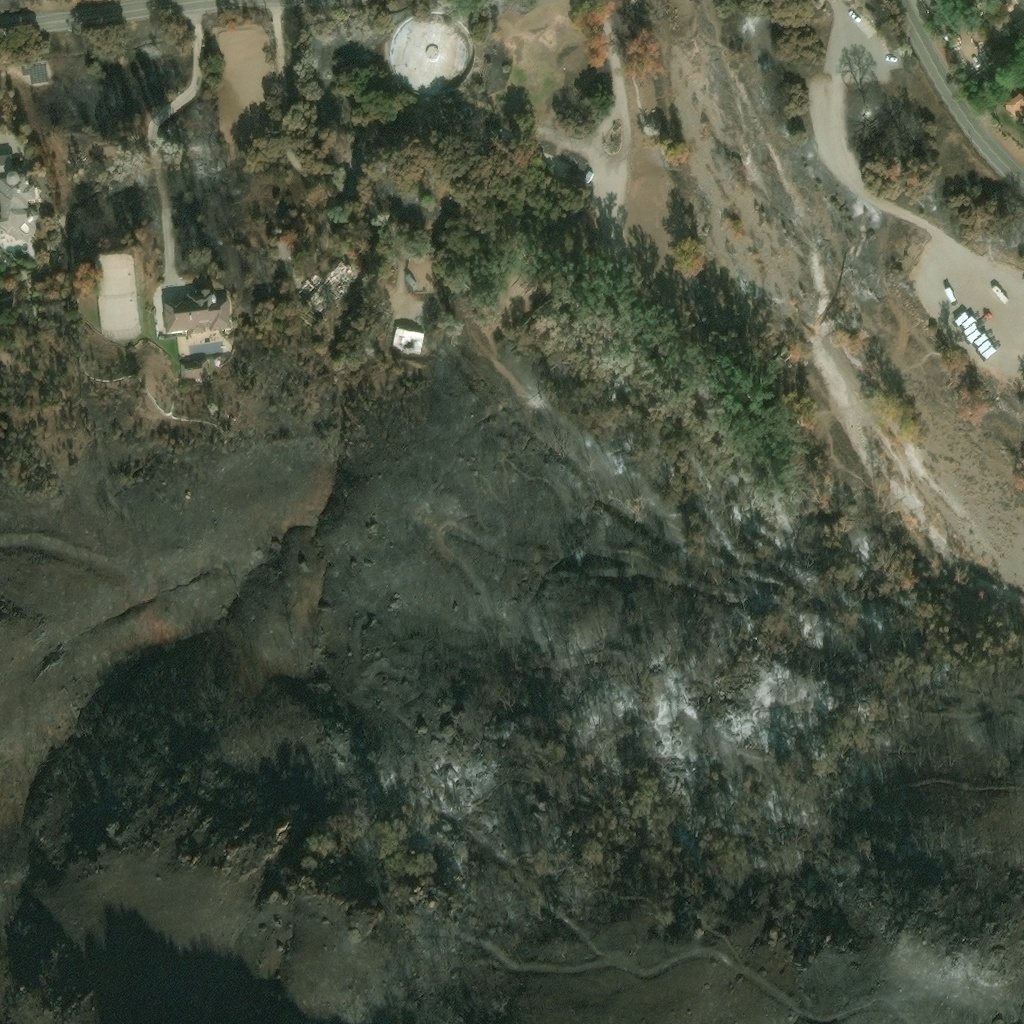0 no-damage: (165, 289, 234, 336), (0, 172, 40, 244), (179, 357, 210, 384), (0, 156, 29, 179), (1003, 92, 1023, 119), (405, 273, 418, 289), (584, 171, 595, 184), (215, 357, 225, 368), (73, 154, 82, 163)
1 minor-damage: (392, 327, 428, 355)
3 destroyed: (297, 259, 355, 317), (23, 63, 50, 83), (275, 240, 293, 263), (325, 69, 333, 75)
